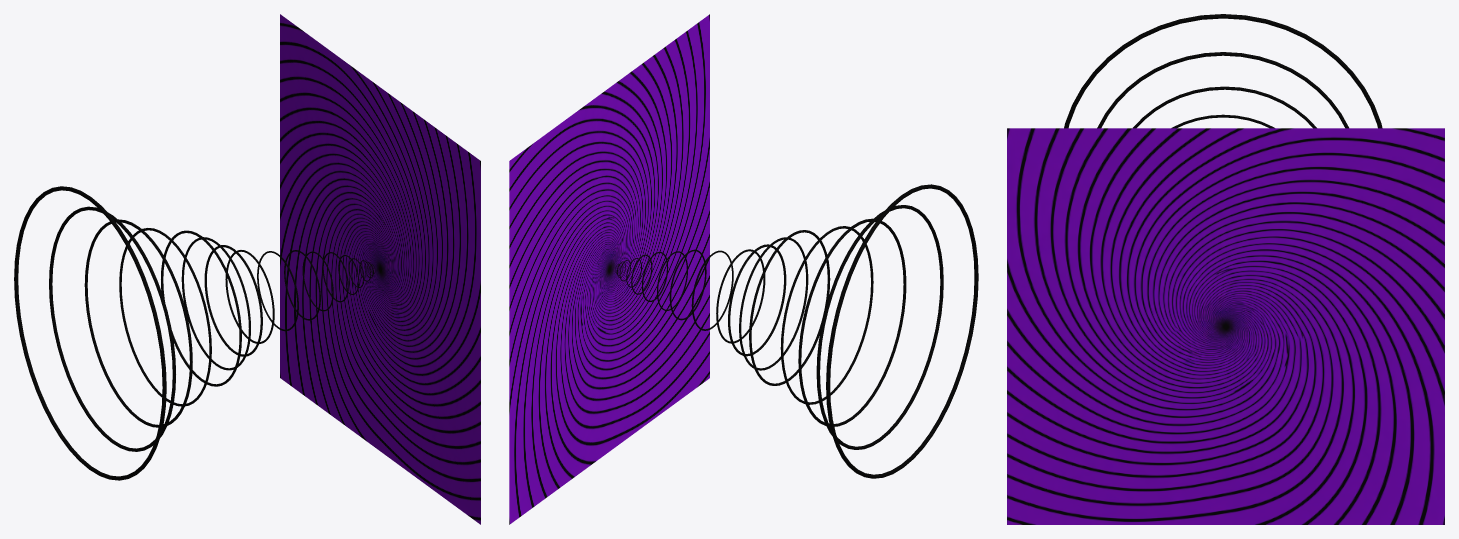
Rendered from spiral.glb.
The picture shows the model from 3 angles, left to right: view 1: azimuth 30°, elevation 25°; view 2: azimuth 150°, elevation 25°; view 3: azimuth 270°, elevation 25°; orthographic projection. The views are drawn at different scales.
Visible parts, largest first — view 1: Plane, BézierCircle.008, BézierCircle.009, BézierCircle.010, BézierCircle.011, BézierCircle, BézierCircle.001, BézierCircle.002, BézierCircle.003; view 2: Plane, BézierCircle.008, BézierCircle.009, BézierCircle.010, BézierCircle.011, BézierCircle, BézierCircle.001, BézierCircle.002, BézierCircle.003; view 3: Plane, BézierCircle.008, BézierCircle.009, BézierCircle.010.
Part boxes in pixels (left/top/right/bottom): Plane: left=280, top=14, right=480, bottom=524; BézierCircle.008: left=14, top=186, right=166, bottom=480; BézierCircle.009: left=49, top=206, right=175, bottom=451; BézierCircle.010: left=84, top=219, right=192, bottom=427; BézierCircle.011: left=119, top=228, right=211, bottom=406; BézierCircle: left=161, top=230, right=241, bottom=386; BézierCircle.001: left=181, top=237, right=250, bottom=370; BézierCircle.002: left=204, top=245, right=262, bottom=356; BézierCircle.003: left=225, top=250, right=274, bottom=343; Plane: left=509, top=14, right=709, bottom=524; BézierCircle.008: left=826, top=184, right=978, bottom=478; BézierCircle.009: left=816, top=205, right=943, bottom=449; BézierCircle.010: left=798, top=218, right=906, bottom=426; BézierCircle.011: left=780, top=226, right=873, bottom=404; BézierCircle: left=749, top=230, right=830, bottom=385; BézierCircle.001: left=739, top=237, right=808, bottom=370; BézierCircle.002: left=728, top=244, right=786, bottom=356; BézierCircle.003: left=716, top=249, right=765, bottom=343; Plane: left=1007, top=128, right=1444, bottom=524; BézierCircle.008: left=1064, top=14, right=1382, bottom=128; BézierCircle.009: left=1097, top=52, right=1348, bottom=128; BézierCircle.010: left=1133, top=86, right=1316, bottom=128.
Size of the model in its own units: 413 by 490 by 490.
Materials: 2 (2 with a texture image).
